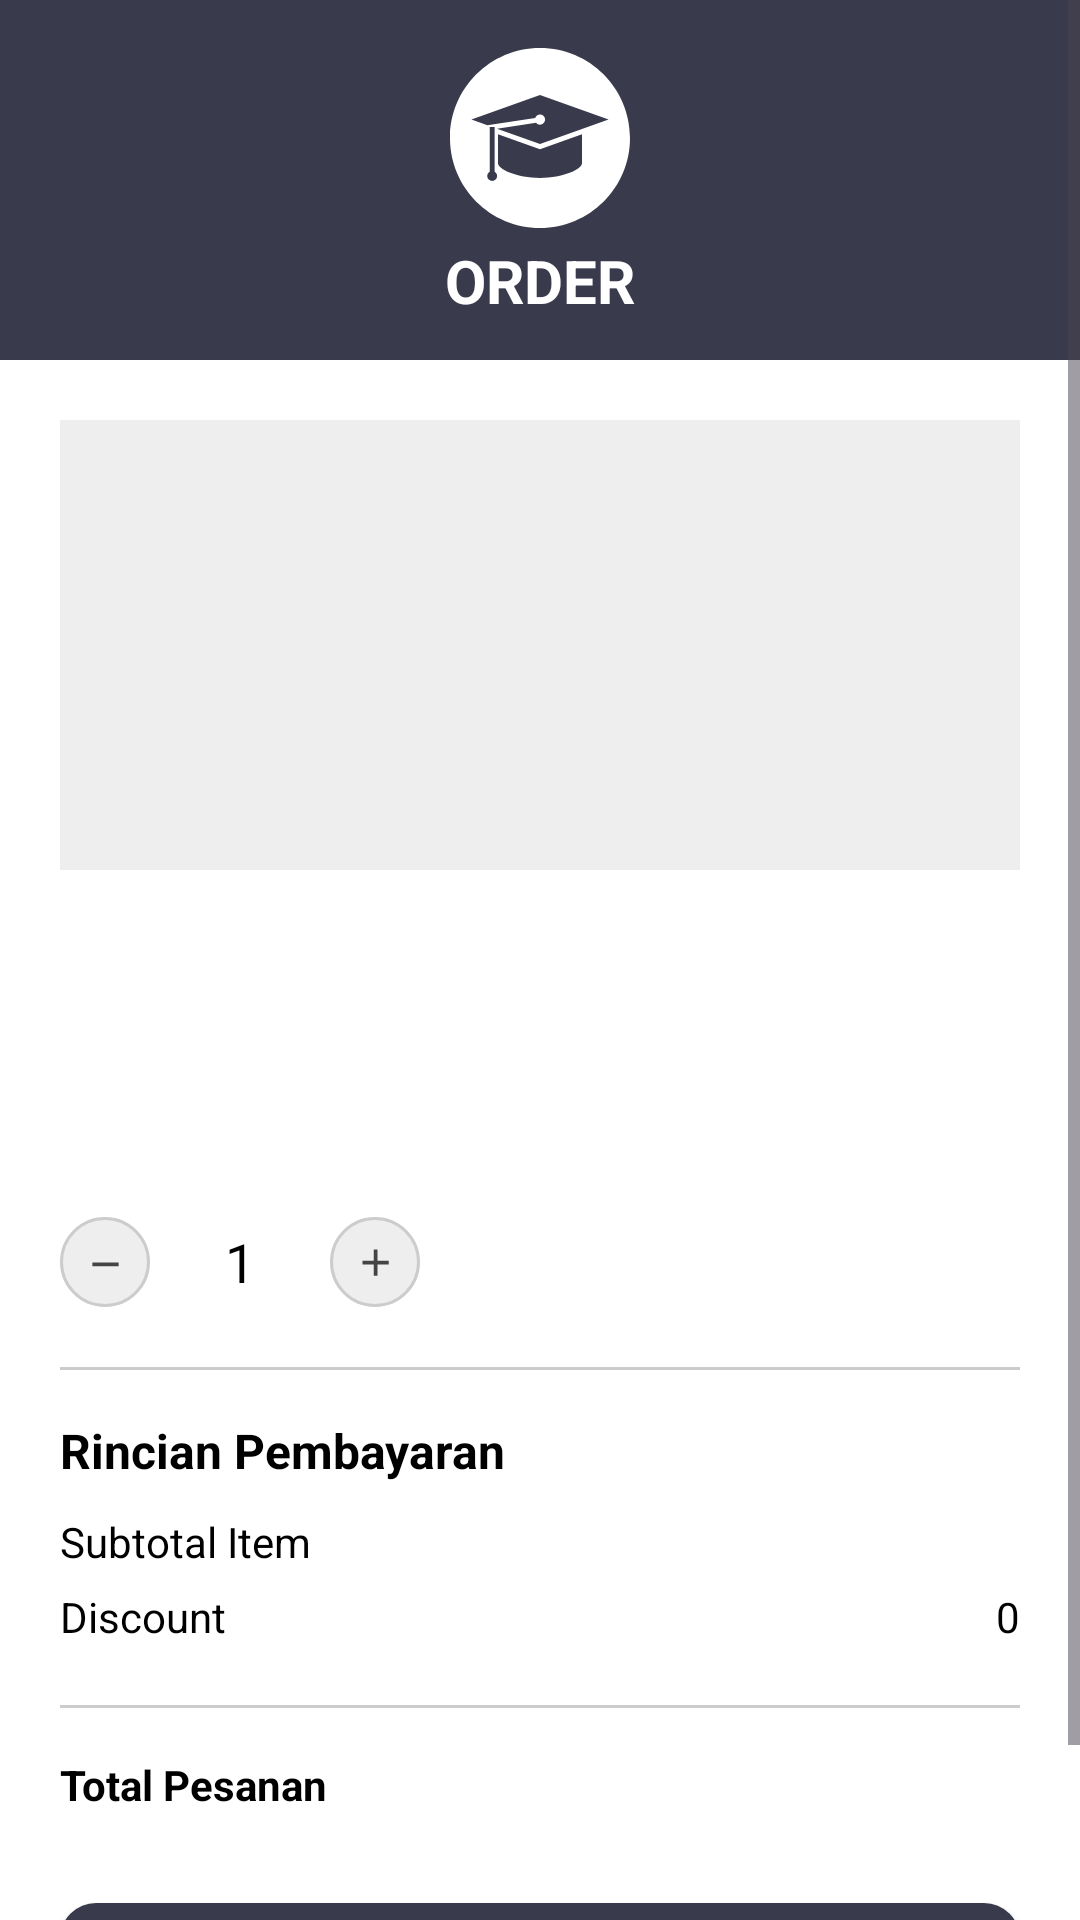

Named icons in this screenshot (1080×1920) and their centers, point (x, y):
headergraduation: point (540, 138)
minus: point (105, 1262)
plus: point (375, 1262)
